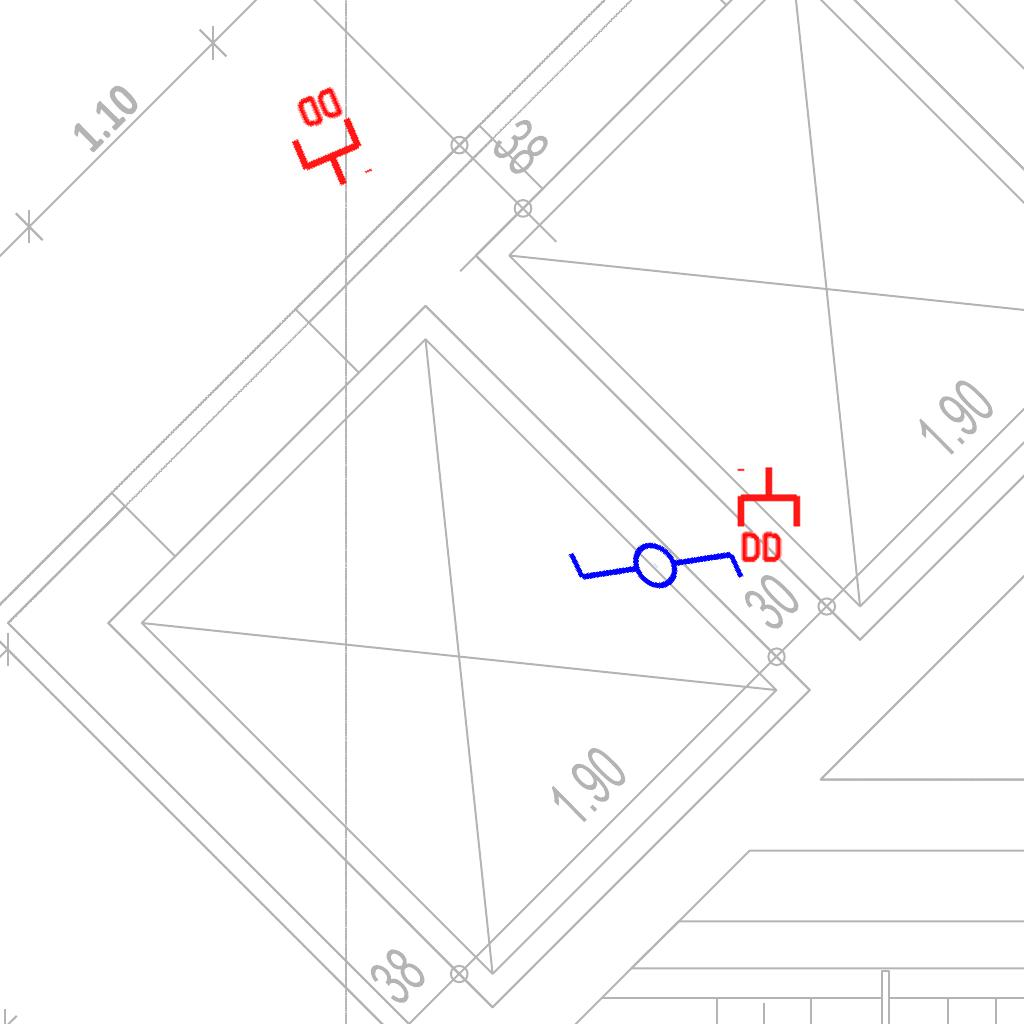Datenanschluss_zweifach: (271, 79, 376, 202), (736, 464, 805, 567)
Wechselschalter: (545, 451, 758, 665)
